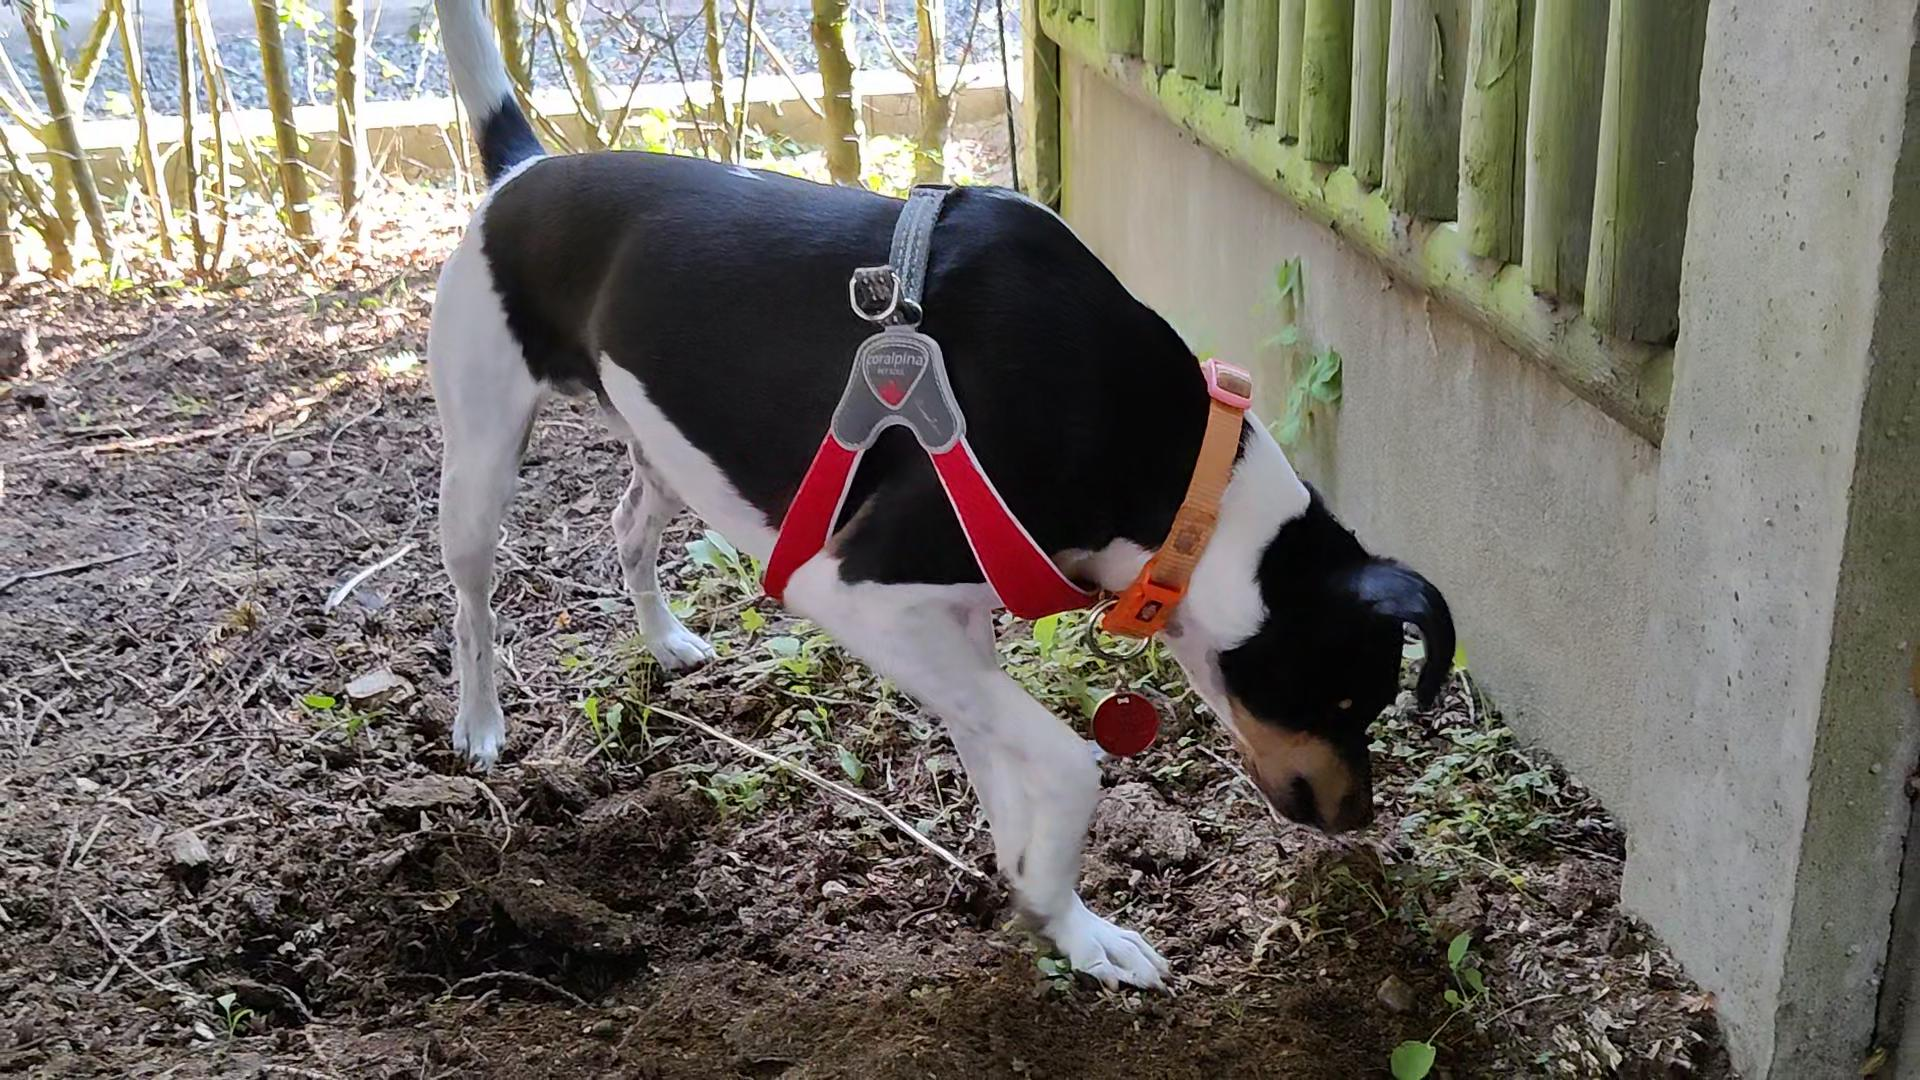Dog: (410, 0, 1458, 1000)
